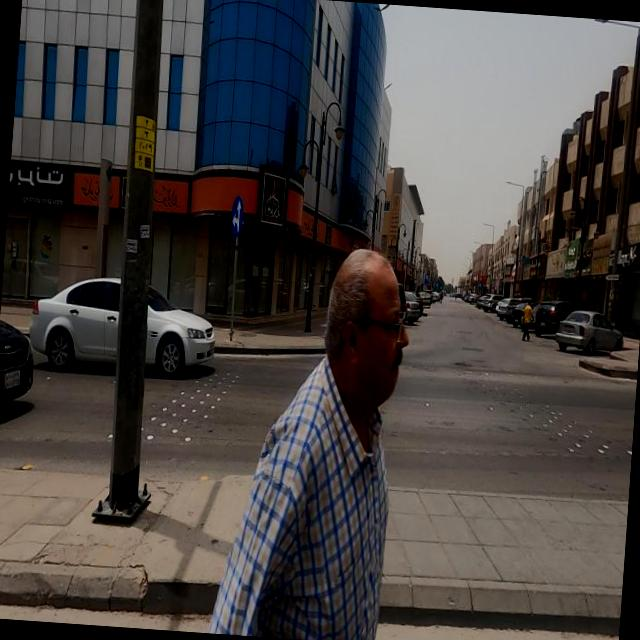debris: (572, 222, 628, 302)
